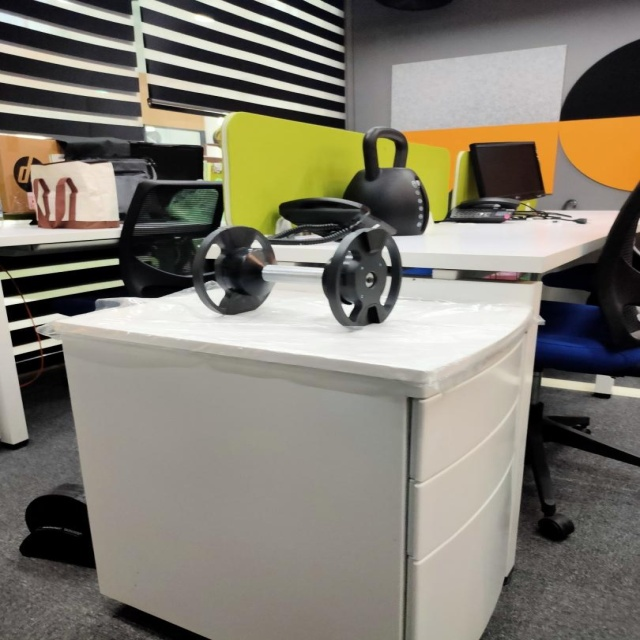01-2kg: (191, 224, 403, 327)
